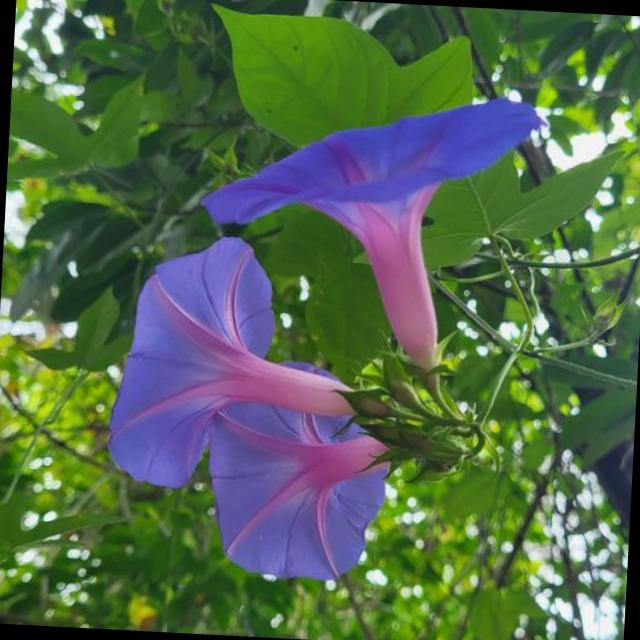ipomoea: (96, 72, 552, 596), (96, 227, 406, 590), (190, 76, 550, 382)
